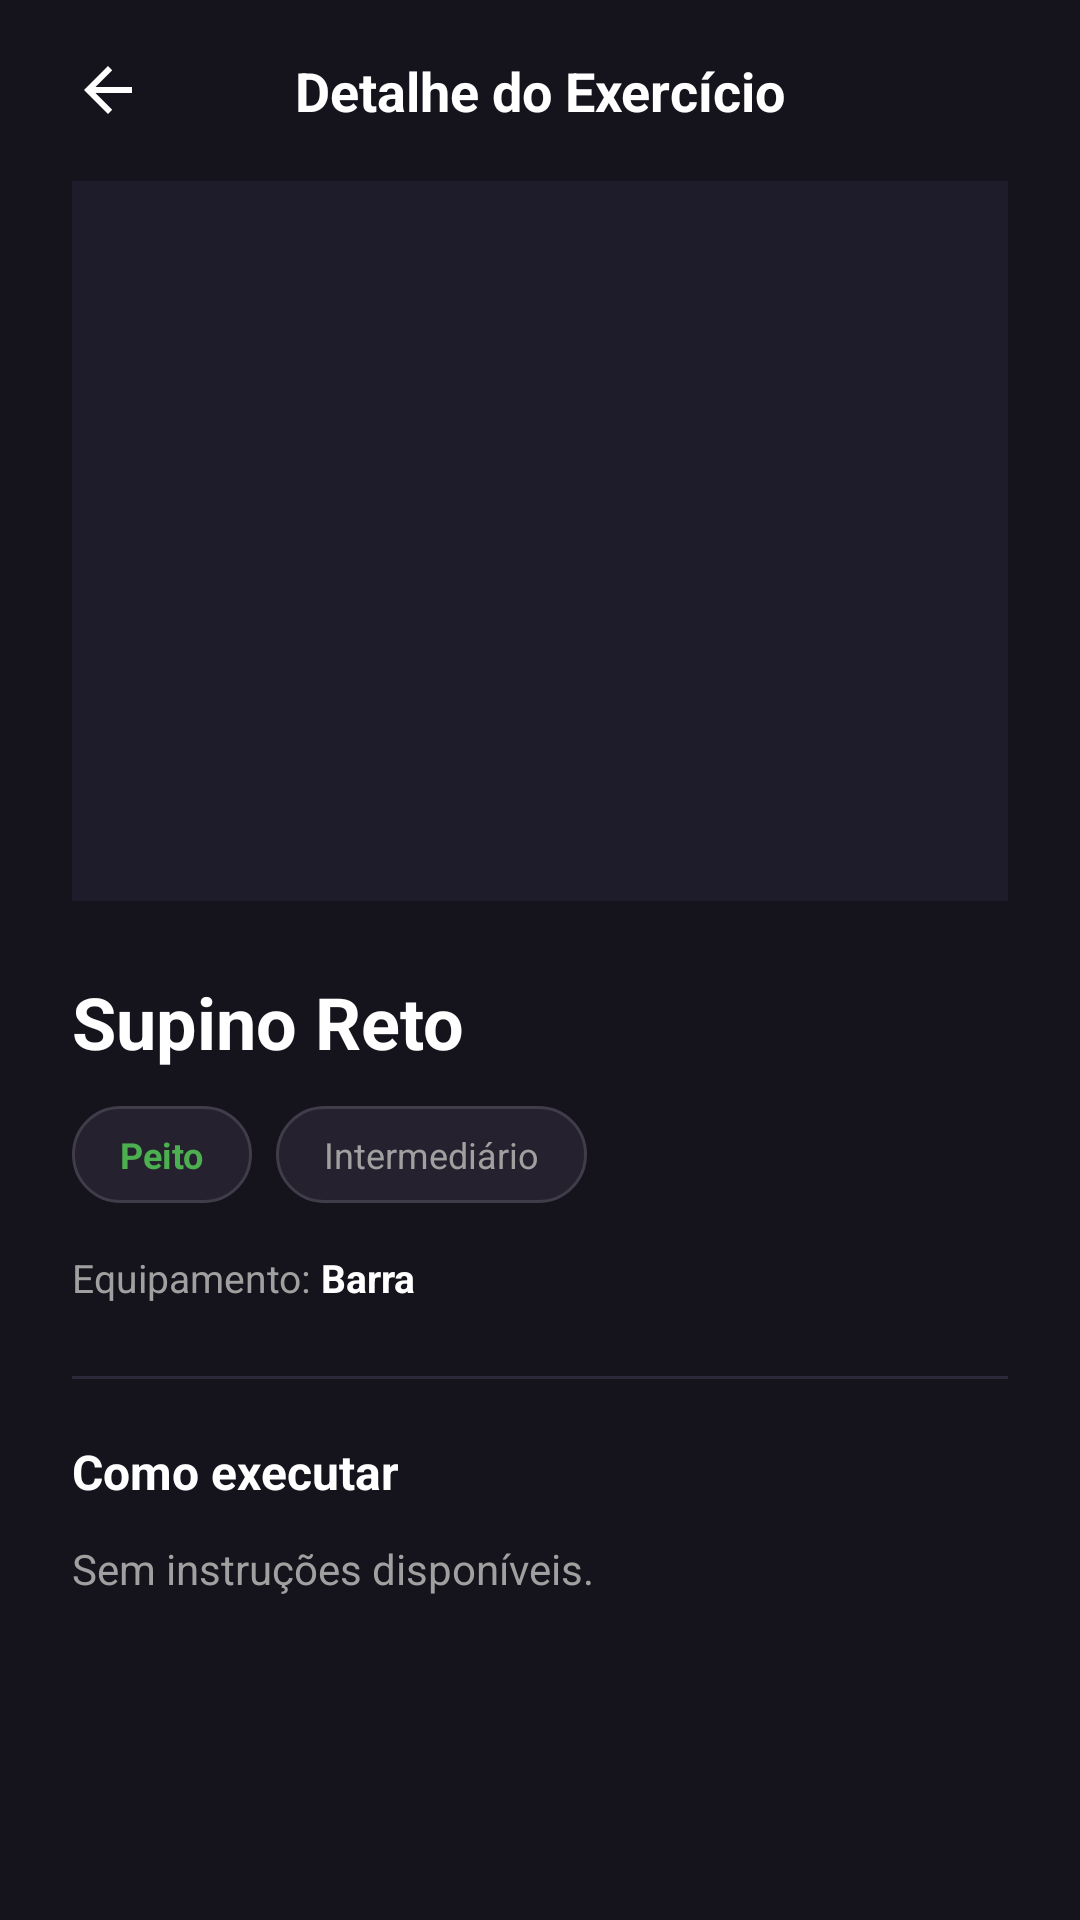

Point at icon controls on the screen. Image size 1080 x 1920, points as [x,y].
arrow back: [108,90]
